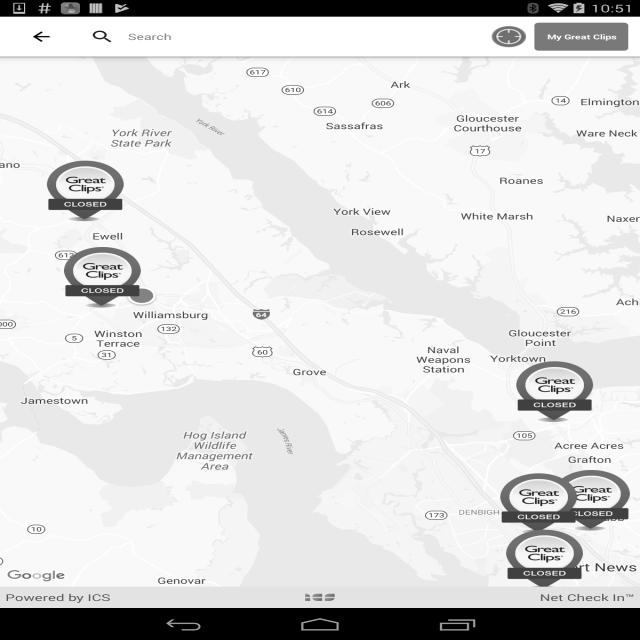Button: (534, 22, 628, 50)
EditText: (120, 24, 474, 48)
ImageButton: (9, 16, 68, 56)
ImageView: (5, 569, 70, 583), (86, 28, 120, 44), (305, 590, 335, 606)
TextView: (5, 587, 111, 608), (540, 587, 634, 608), (484, 20, 534, 52)
